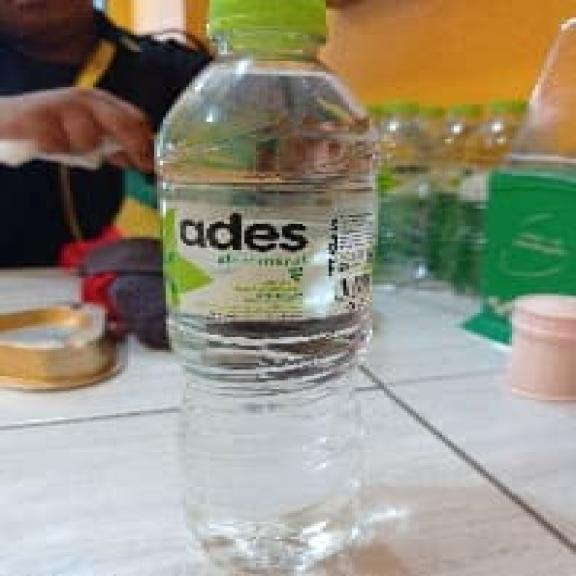Plastik: (144, 12, 398, 570)
